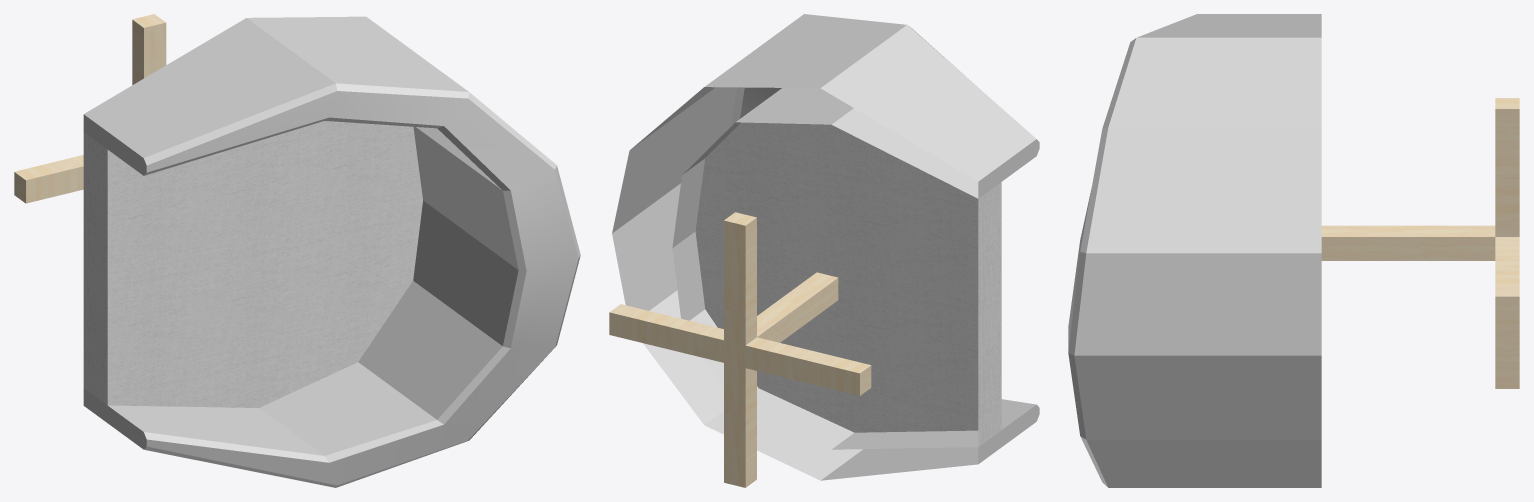
The picture shows the model from 3 angles, left to right: view 1: azimuth 30°, elevation 25°; view 2: azimuth 150°, elevation 25°; view 3: azimuth 270°, elevation 25°; orthographic projection. The views are drawn at different scales.
Size of the model in its own units: 0.7 by 0.7165 by 0.7.
2 materials, 2 textured.
